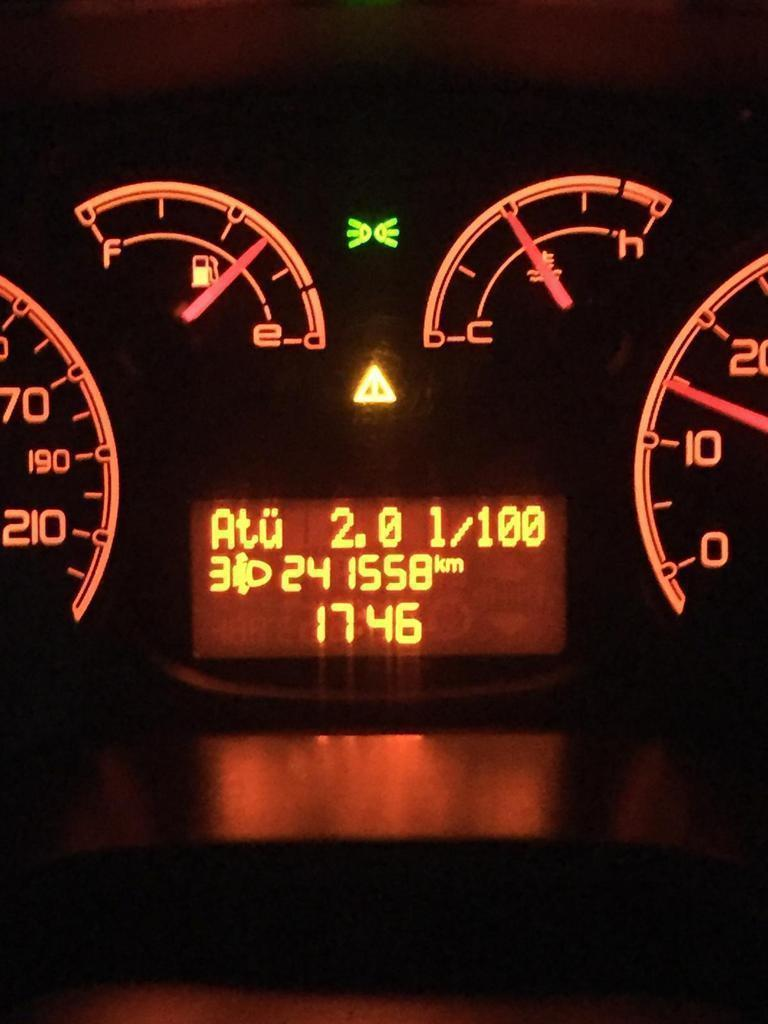,: (354, 531, 368, 550)
0: (376, 506, 403, 549), (496, 503, 521, 549), (522, 503, 545, 548)
1: (476, 503, 495, 551), (315, 602, 327, 644), (346, 554, 357, 590)
2: (326, 506, 354, 551), (280, 553, 308, 592)
3: (208, 555, 231, 593)
4: (365, 601, 394, 642), (307, 553, 333, 592)
5: (382, 553, 407, 591), (358, 553, 381, 592)
6: (395, 601, 423, 645)
7: (330, 601, 356, 644)
8: (407, 552, 433, 591)
X: (208, 507, 236, 549), (258, 507, 285, 550), (235, 507, 259, 548), (427, 502, 447, 548), (450, 515, 473, 548), (446, 556, 465, 576), (431, 554, 445, 576)
odometer: (182, 486, 578, 671)
